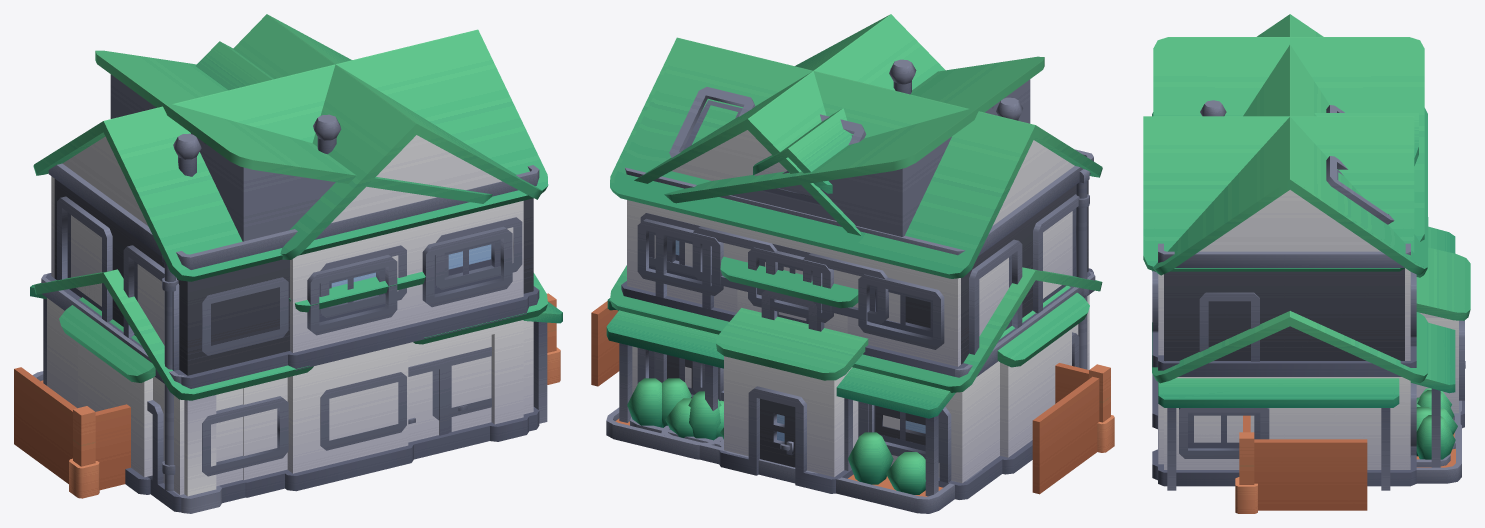
Rendered from lp-home.glb.
3 renders of one model, left to right at view 1: azimuth 30°, elevation 25°; view 2: azimuth 150°, elevation 25°; view 3: azimuth 270°, elevation 25°, orthographic. The views are drawn at different scales.
Visible parts, largest first — view 1: building-type-s, building-type-e, building-type-p, building-type-k, building-type-o, fence-1x4, building-type-a; view 2: building-type-e, building-type-s, building-type-o, building-type-k, building-type-a, building-type-p, fence-1x4; view 3: building-type-s, building-type-p, building-type-e, building-type-k, building-type-a, fence-1x4, building-type-o.
Boxes of the visible parts, x1,y1,x2,y2 form: building-type-s: (59,14,562,494); building-type-e: (30,29,548,491); building-type-p: (48,163,539,513); building-type-k: (95,50,492,497); building-type-o: (41,106,543,512); fence-1x4: (14,293,560,498); building-type-a: (33,269,547,449); building-type-e: (606,37,1102,510); building-type-s: (607,14,1089,493); building-type-o: (614,38,1095,499); building-type-k: (661,56,1044,466); building-type-a: (606,256,1102,513); building-type-p: (625,149,1093,482); fence-1x4: (591,301,1114,494); building-type-s: (1143,100,1470,490); building-type-p: (1158,243,1454,486); building-type-e: (1152,14,1461,486); building-type-k: (1153,37,1460,449); building-type-a: (1152,217,1461,486); fence-1x4: (1235,415,1367,513); building-type-o: (1154,63,1461,470).
Bounding box in the file's own units: 1.68 × 1.15 × 1.09.
Materials: 1 (1 with a texture image).
